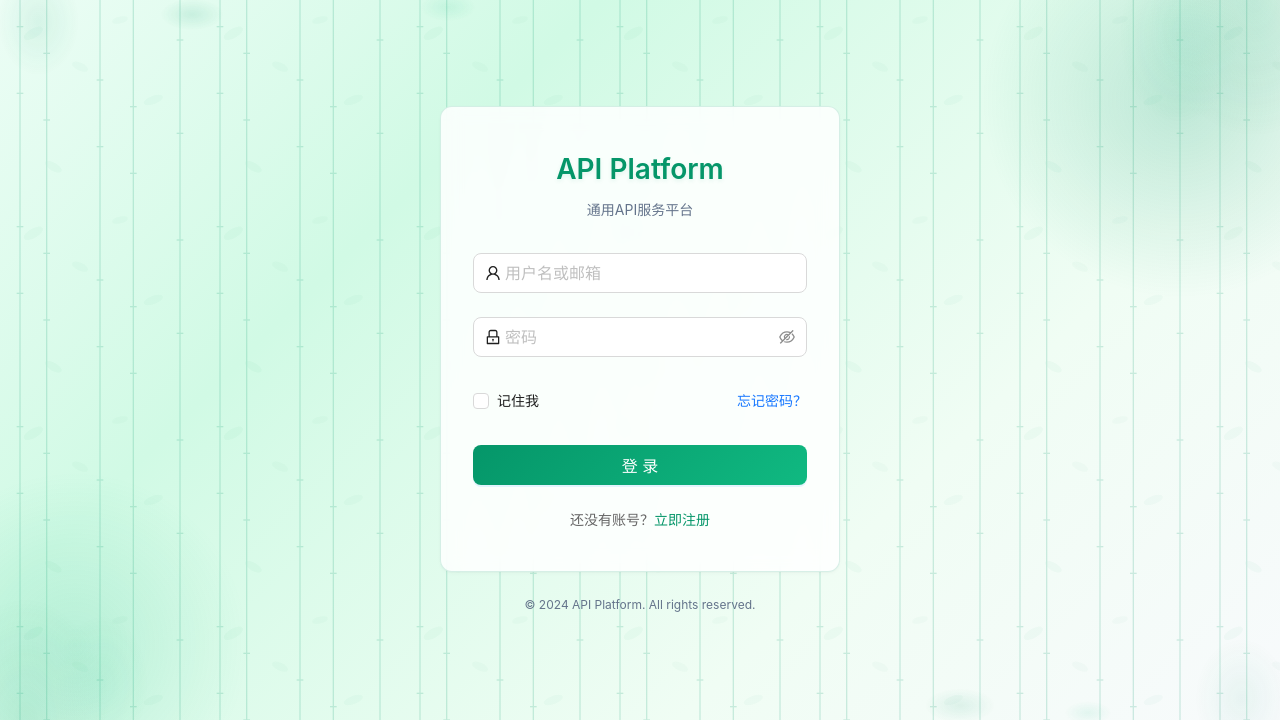
it: 登录页渲染与提交 › TC-FE-LOGIN-003: 空表单提交被前端校验拦截，不发起请求
Click the button "登 录": (640, 465) x1=473 y1=445 x2=807 y2=485
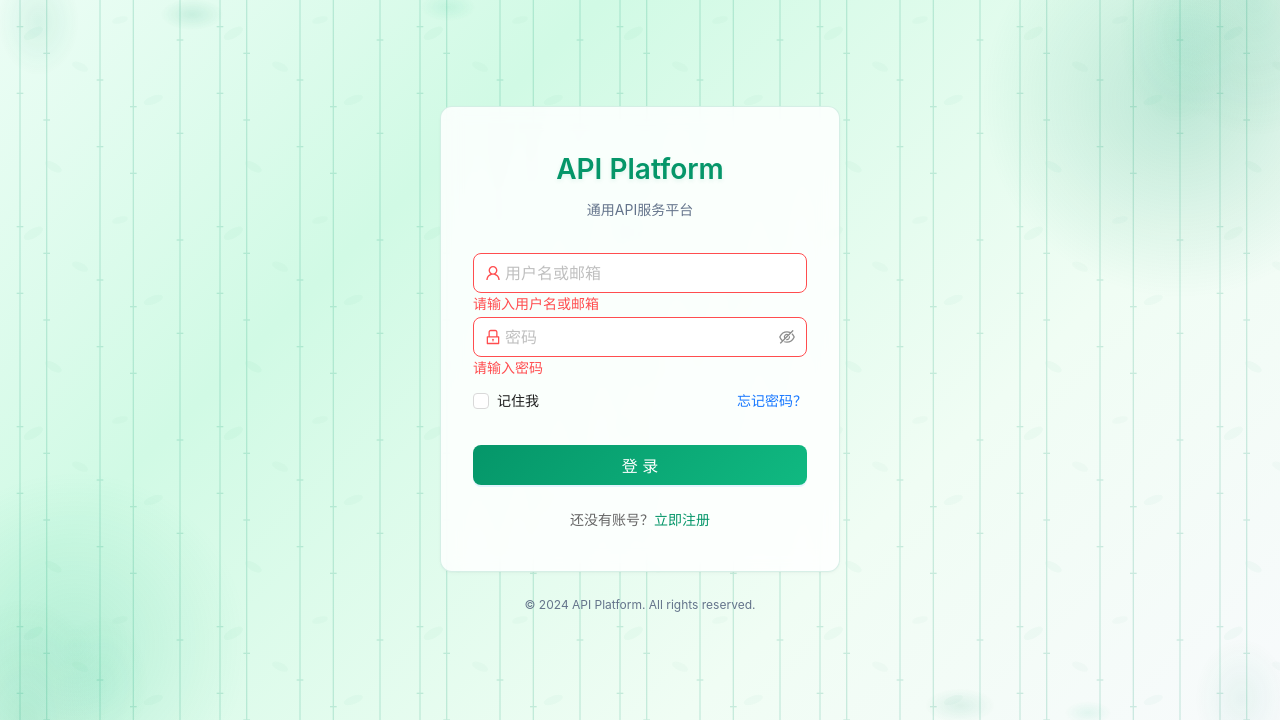
Now the text "请输入用户名或邮箱" is shown, box x1=473 y1=295 x2=599 y2=312
Now the text "请输入密码" is shown, box x1=473 y1=359 x2=543 y2=376
